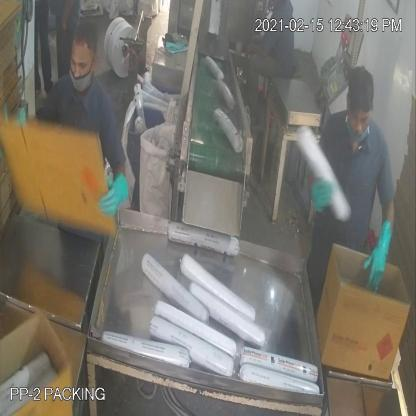glove: (364, 202, 394, 310), (96, 162, 139, 226)
no_glove: (242, 37, 269, 69)
